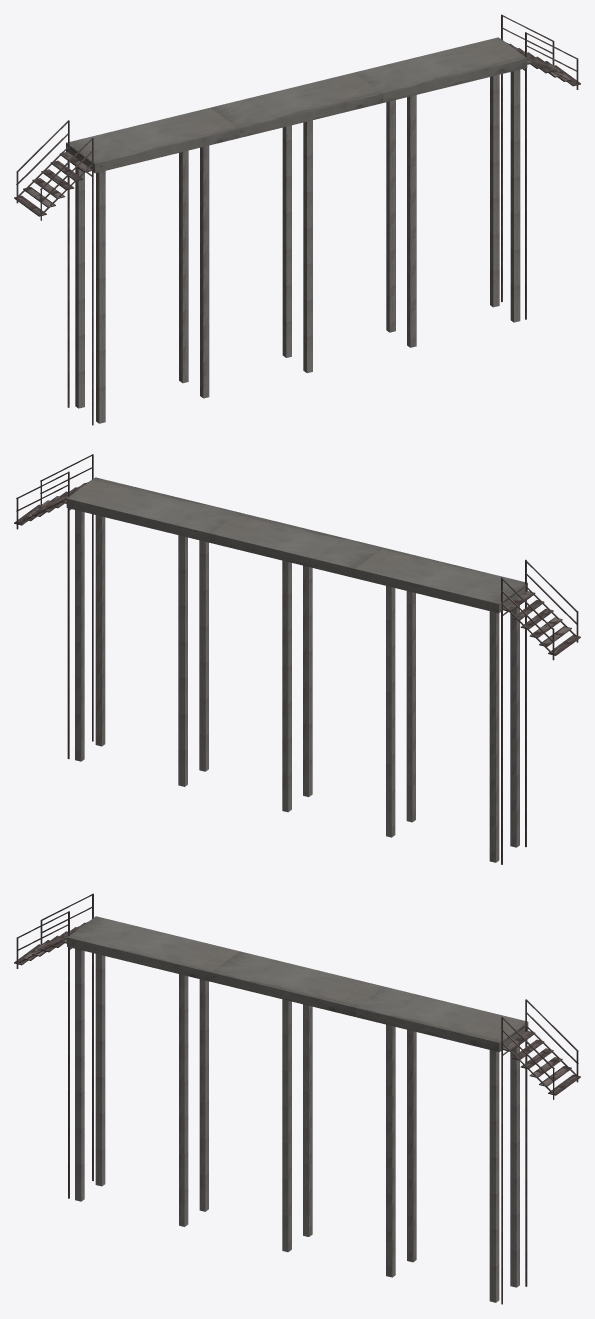
Rendered from Bridge.glb.
3 views of the same model, one above another, from view 1: azimuth 30°, elevation 25°; view 2: azimuth 150°, elevation 25°; view 3: azimuth 330°, elevation 25° (orthographic).
Parts seen in each view (by area): view 1: Bridge; view 2: Bridge; view 3: Bridge.
Part boxes in pixels (x1,y1,x2,y2): Bridge: (14,14,580,425); Bridge: (14,454,580,864); Bridge: (14,893,580,1304).
Bounding box in the file's own units: 28.58 × 14.47 × 2.65.
1 material, 1 textured.
